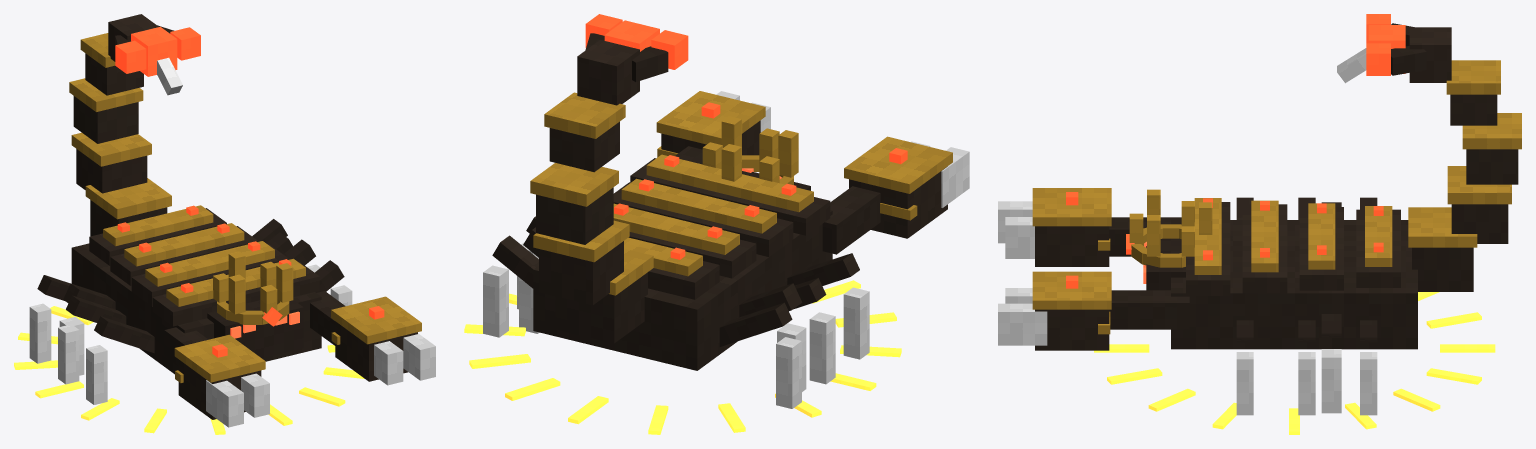
Rendered from scorpion_empereur.glb.
3 renders of one model, left to right at view 1: azimuth 30°, elevation 25°; view 2: azimuth 150°, elevation 25°; view 3: azimuth 270°, elevation 25°, orthographic. The views are drawn at different scales.
Visible parts, largest first — view 1: Torso, ArmL, ArmR, Head, Root, LegR; view 2: Torso, ArmR, ArmL, Root, Head, LegR, LegL; view 3: Torso, ArmL, ArmR, Head, Root, LegL.
Boxes of the visible parts, x1,y1,x2,y2 form: Torso: (29,14,352,404); ArmL: (310,291,435,385); ArmR: (164,327,269,427); Head: (207,251,303,358); Root: (14,306,364,434); LegR: (59,283,115,375); Torso: (483,14,869,408); ArmR: (822,136,969,254); ArmL: (656,91,770,164); Root: (464,280,901,434); Head: (702,116,810,190); LegR: (739,283,806,391); LegL: (519,227,539,333); Torso: (1171,14,1521,415); ArmL: (998,271,1189,350); ArmR: (998,188,1181,266); Head: (1126,189,1212,290); Root: (1094,292,1495,434); LegL: (1321,314,1341,413).
Size of the model in its own units: 1.62 by 1.42 by 2.12.
Materials: 15 (15 with a texture image).
